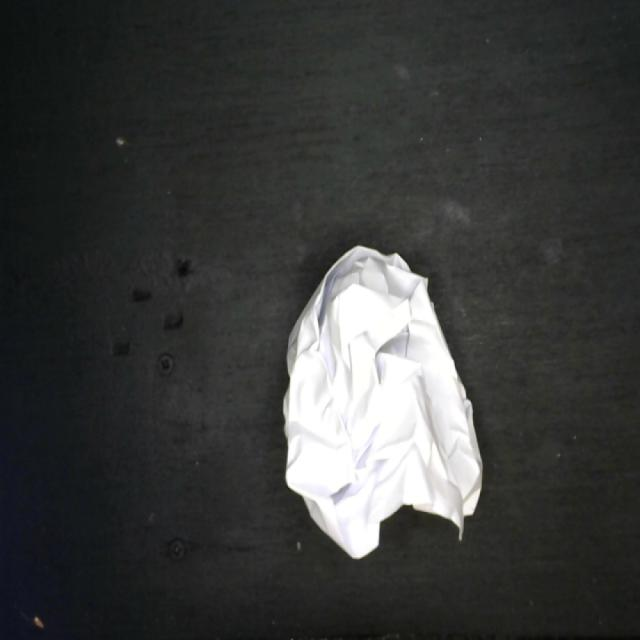biodegradable: (279, 239, 485, 561)
